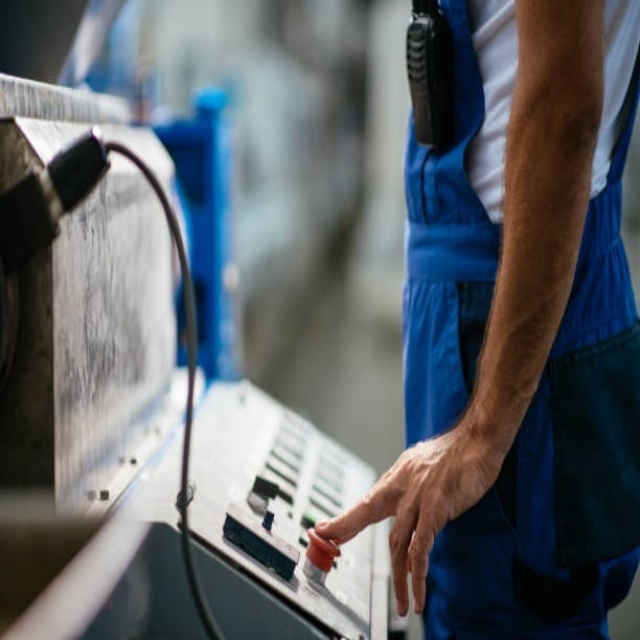Sin_guantes: (316, 434, 470, 617)
